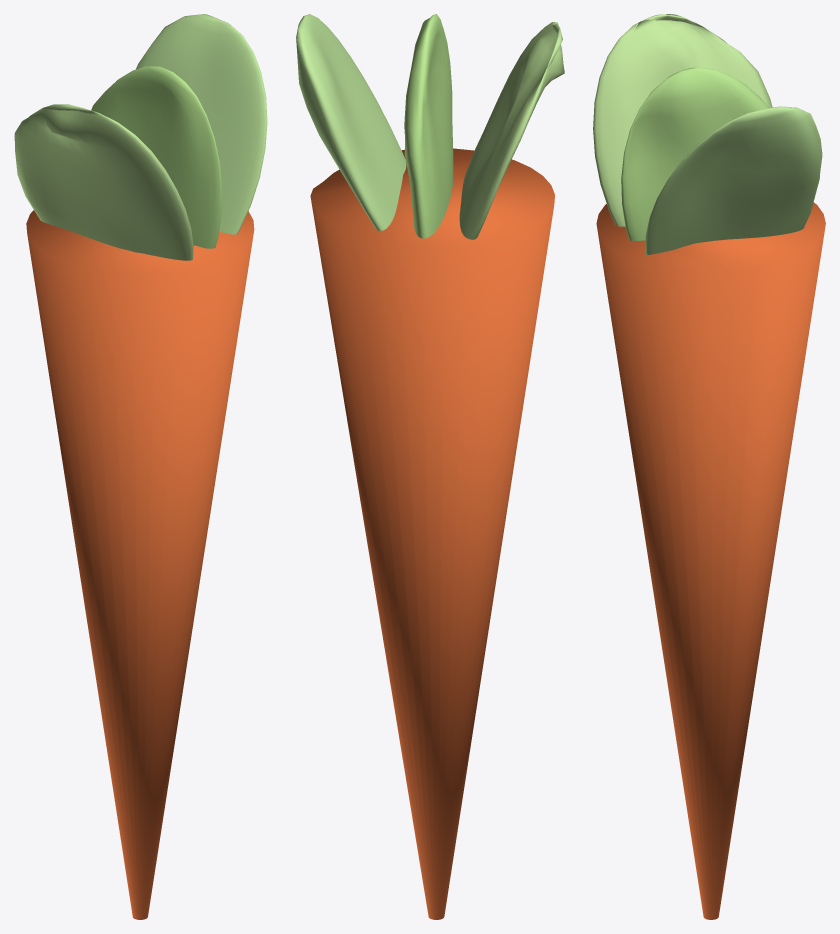
Rendered from carrot.fbx.
3 views of the same model, side by side, from view 1: azimuth 30°, elevation 25°; view 2: azimuth 150°, elevation 25°; view 3: azimuth 270°, elevation 25° (orthographic). The views are drawn at different scales.
Visible parts, largest first — view 1: Cone, Sphere.001, Sphere.002, Sphere; view 2: Cone, Sphere.002, Sphere, Sphere.001; view 3: Cone, Sphere.002, Sphere.001, Sphere.
Boxes of the visible parts, x1,y1,x2,y2 form: Cone: (26, 210, 254, 919); Sphere.001: (14, 104, 193, 260); Sphere.002: (136, 14, 267, 234); Sphere: (91, 66, 222, 248); Cone: (310, 148, 554, 919); Sphere.002: (296, 14, 406, 230); Sphere: (404, 14, 453, 238); Sphere.001: (459, 22, 564, 239); Cone: (596, 202, 825, 919); Sphere.002: (645, 106, 822, 254); Sphere.001: (593, 14, 772, 226); Sphere: (621, 67, 768, 240).
Bounding box in the file's own units: 4.63 × 17.16 × 4.22.
